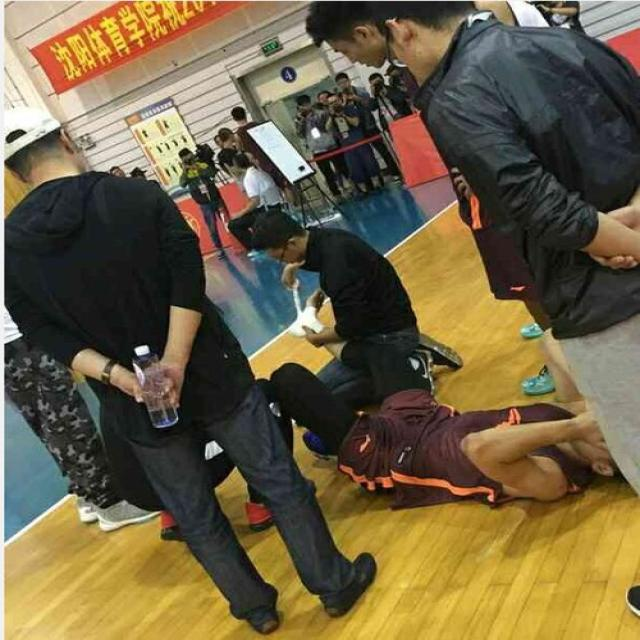10-: (0, 9, 639, 566)
down: (236, 277, 638, 522)
